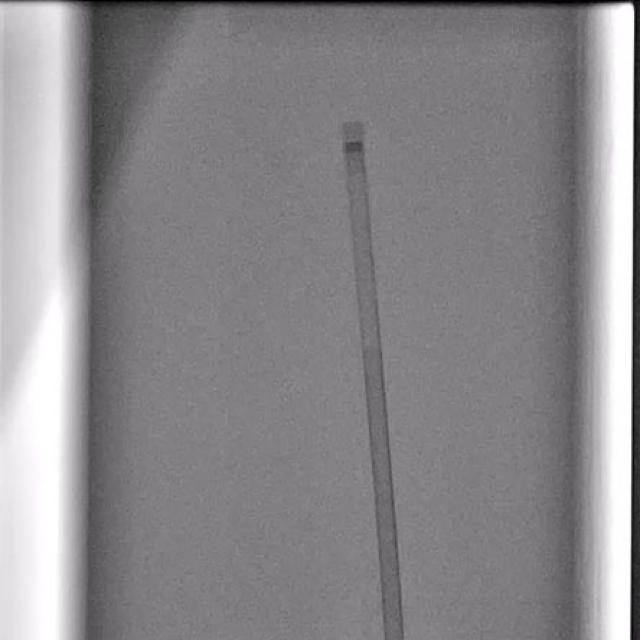bend: (361, 332, 382, 345)
entry: (384, 634, 406, 640)
marker: (343, 142, 365, 154)
tip: (343, 120, 363, 126)
